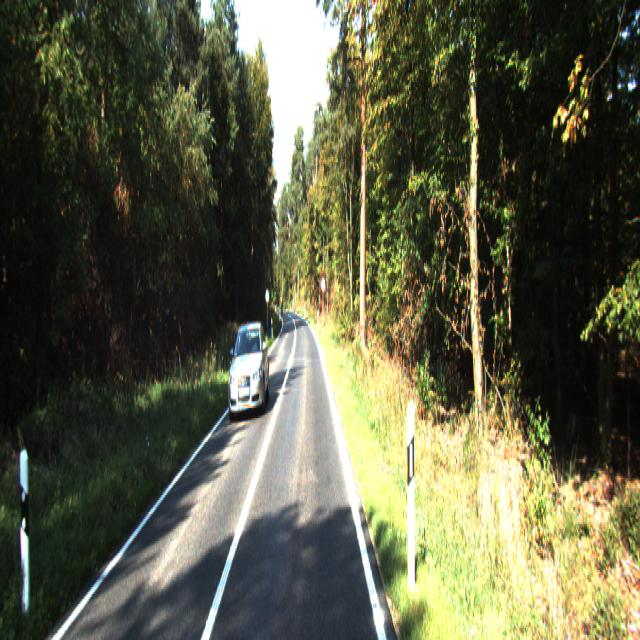Car: (226, 318, 272, 422)
